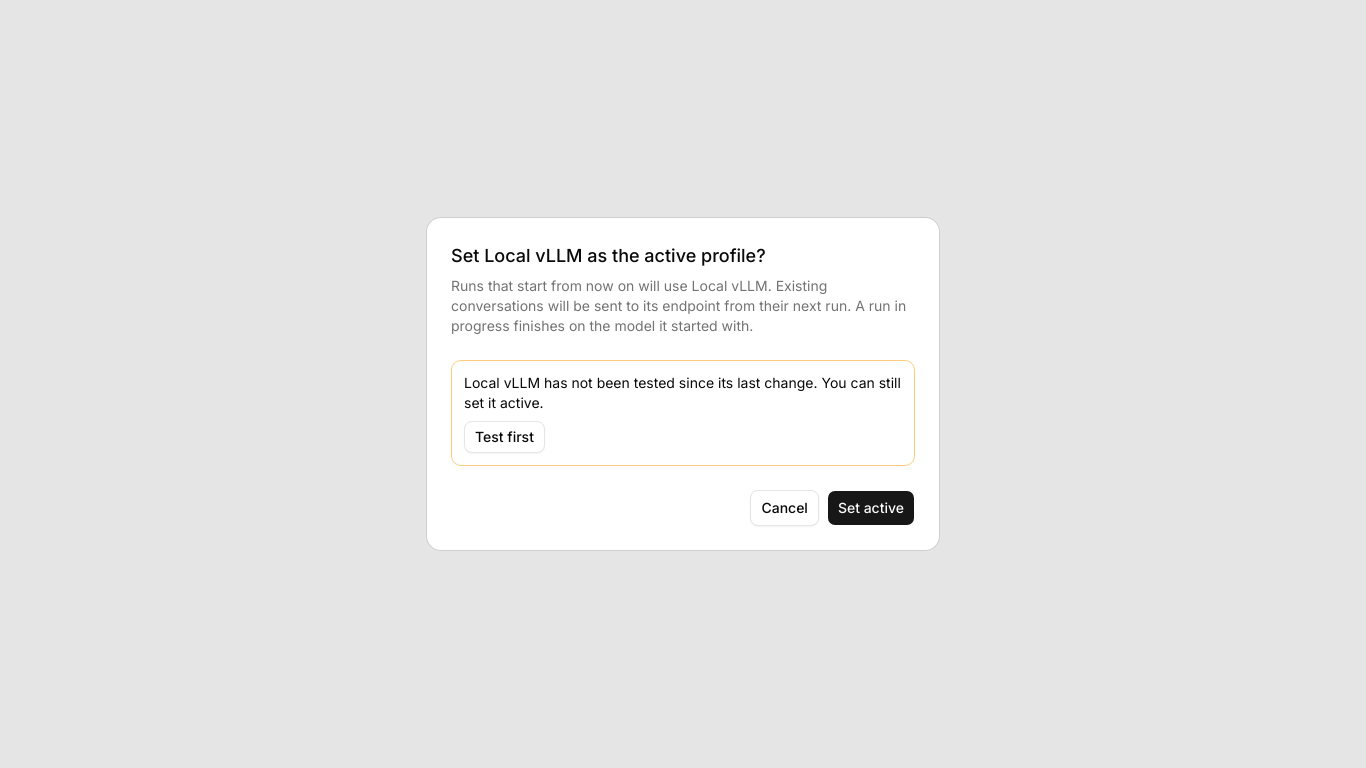
ActivateDialog, an untested profile › keeps warning when the test it ran passed but was not kept
Click the button "Test first".
click(504, 437)  # box [464, 421, 545, 453]
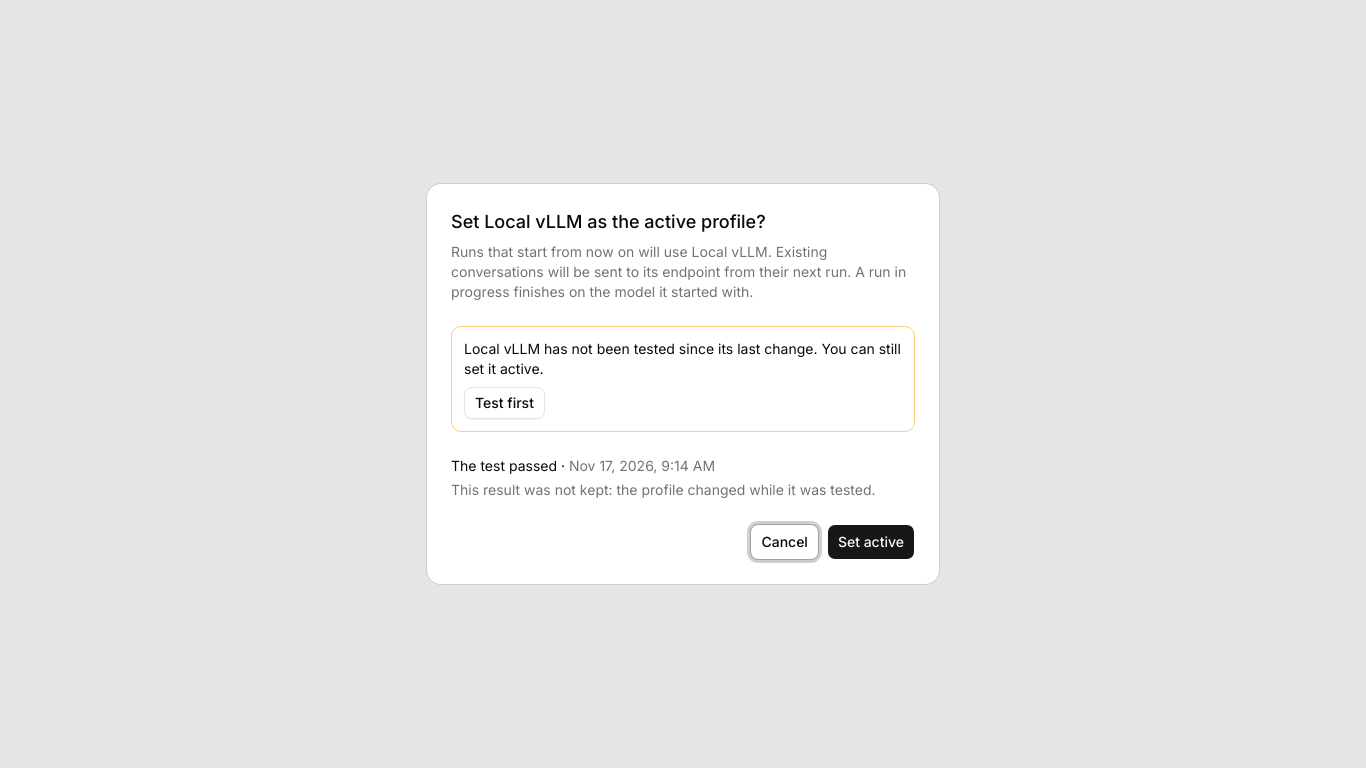
expect the text "has not been tested since its last change" is shown: met, box [464, 340, 818, 357]
expect the element that starts with "The test passed" is shown: met, box [451, 457, 557, 474]
expect the element that starts with "The test passed" shows "not kept": met, box [451, 481, 876, 498]
